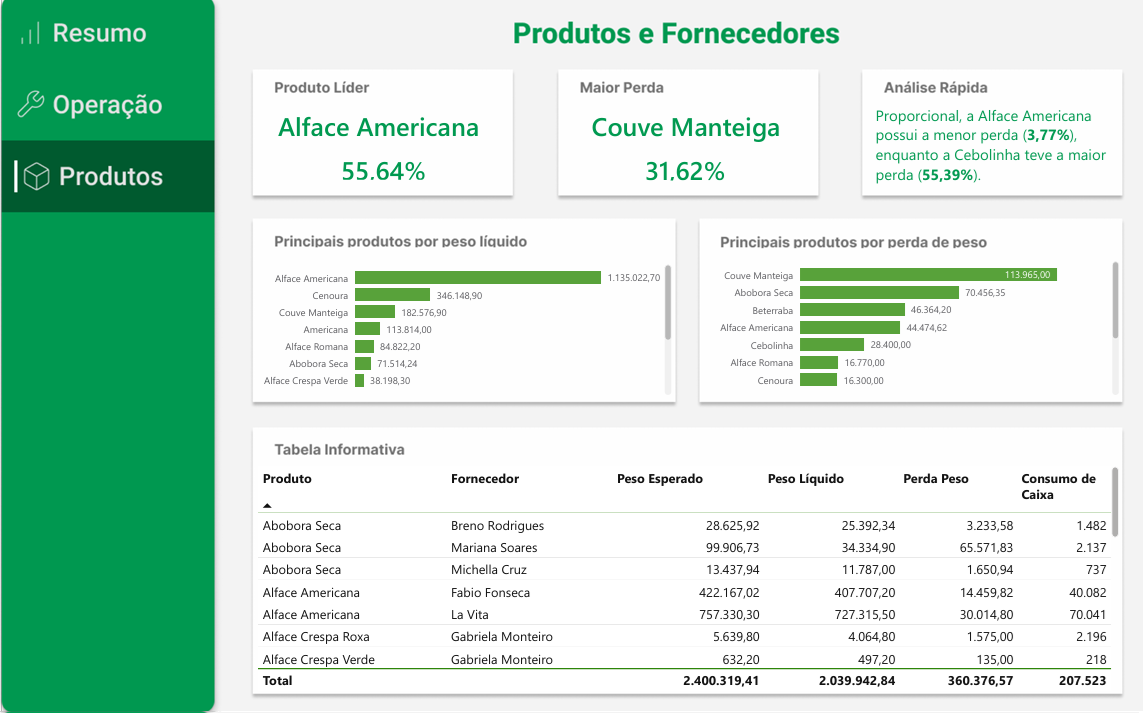

What the dashboard file says about the page in this screenshot:
{"tool":"powerbi","page":{"name":"Produtos","canvas":[1440,900],"ordinal":2},"visuals":[{"type":"tableEx","fields":{"Values":["Fabrica.Produto","Fabrica.Fornecedor","Sum(Fabrica.Peso Esperado)","Sum(Fabrica.Peso Líquido (Kg))","Sum(Fabrica.Perda Peso)","Sum(Fabrica.Consumo de Caixa (cx))"]},"box":[322.2,579.6,1089,291.6],"z":0},{"type":"barChart","fields":{"Y":["Sum(Fabrica.Peso Líquido (Kg))"],"Category":["Fabrica.Produto"]},"box":[322.2,318.6,527.4,181.8],"z":1000},{"type":"barChart","fields":{"Y":["Sum(Fabrica.Perda Peso)"],"Category":["Fabrica.Produto"]},"box":[880.2,315,531,185.4],"z":2000},{"type":"cardVisual","fields":{"Data":["Fabrica._%ProdutoLíder"]},"box":[401.8,178.8,169.2,63.4],"z":3000},{"type":"cardVisual","fields":{"Data":["Fabrica._ProdutoLíder"]},"box":[323,123,324.9,65.4],"z":4000},{"type":"cardVisual","fields":{"Data":["Fabrica._%MaiorPerda"]},"box":[783,178.2,167.4,64.8],"z":5000},{"type":"cardVisual","fields":{"Data":["Fabrica._ProdutoMaiorPerda"]},"box":[716.4,117,300.6,79.2],"z":6000},{"type":"textbox","box":[1096.2,126,304.2,117],"z":7000},{"type":"actionButton","box":[6,87.3,267.3,90],"z":8000},{"type":"actionButton","box":[5.3,0,267.3,90],"z":9000}]}

Visuals, with their boxes on the page's 1440x900 design canvas (x1, y1, x2, y2). These are canvas units, not pixel positions in the 1143x713 screenshot, which may show the page scaled, cropped or inside an application window:
tableEx - Fabrica.Produto x Fabrica.Fornecedor: rect(322, 580, 1411, 871)
barChart - Sum(Fabrica.Peso Líquido (Kg)) x Fabrica.Produto: rect(322, 319, 850, 500)
barChart - Sum(Fabrica.Perda Peso) x Fabrica.Produto: rect(880, 315, 1411, 500)
cardVisual - Fabrica._%ProdutoLíder: rect(402, 179, 571, 242)
cardVisual - Fabrica._ProdutoLíder: rect(323, 123, 648, 188)
cardVisual - Fabrica._%MaiorPerda: rect(783, 178, 950, 243)
cardVisual - Fabrica._ProdutoMaiorPerda: rect(716, 117, 1017, 196)
textbox: rect(1096, 126, 1400, 243)
actionButton: rect(6, 87, 273, 177)
actionButton: rect(5, 0, 273, 90)
